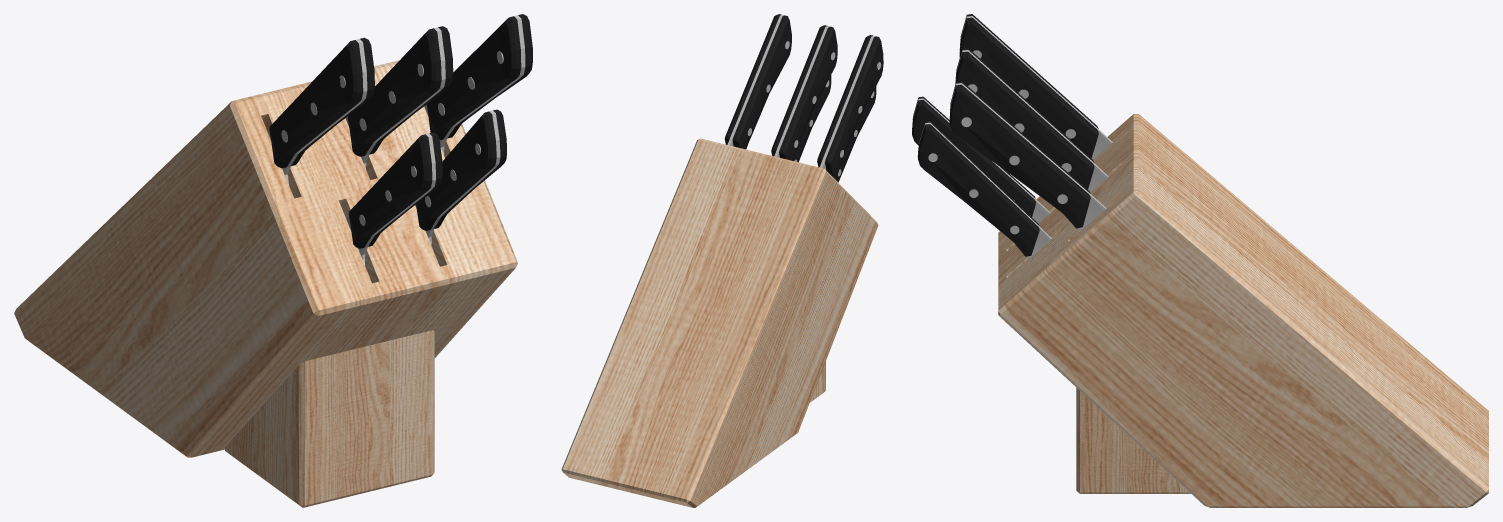
Rendered from sweethome3d-scopia-knife-stand-376.glb.
3 renders of one model, left to right at view 1: azimuth 30°, elevation 25°; view 2: azimuth 150°, elevation 25°; view 3: azimuth 270°, elevation 25°, orthographic. The views are drawn at different scales.
Visible parts, largest first — view 1: Stand_Cube.005, knife2_Cube.001, knife_Cube, knife.001_Cube.002, knife.002_Cube.003, knife.003_Cube.004; view 2: Stand_Cube.005, knife2_Cube.001, knife.001_Cube.002, knife_Cube, knife.003_Cube.004, knife.002_Cube.003; view 3: Stand_Cube.005, knife.001_Cube.002, knife.003_Cube.004, knife2_Cube.001, knife_Cube, knife.002_Cube.003.
Boxes of the visible parts, x1=… form: Stand_Cube.005: x1=14, y1=60, x2=517, y2=507; knife2_Cube.001: x1=268, y1=37, x2=374, y2=184; knife_Cube: x1=347, y1=26, x2=453, y2=168; knife.001_Cube.002: x1=424, y1=14, x2=532, y2=154; knife.002_Cube.003: x1=346, y1=132, x2=442, y2=264; knife.003_Cube.004: x1=415, y1=109, x2=506, y2=244; Stand_Cube.005: x1=561, y1=138, x2=878, y2=507; knife2_Cube.001: x1=817, y1=35, x2=883, y2=179; knife.001_Cube.002: x1=724, y1=14, x2=791, y2=149; knife_Cube: x1=771, y1=25, x2=837, y2=160; knife.003_Cube.004: x1=793, y1=75, x2=831, y2=162; knife.002_Cube.003: x1=836, y1=86, x2=876, y2=182; Stand_Cube.005: x1=998, y1=114, x2=1488, y2=507; knife.001_Cube.002: x1=949, y1=81, x2=1106, y2=231; knife.003_Cube.004: x1=917, y1=121, x2=1051, y2=259; knife2_Cube.001: x1=959, y1=14, x2=1112, y2=159; knife_Cube: x1=955, y1=48, x2=1108, y2=192; knife.002_Cube.003: x1=912, y1=96, x2=1050, y2=223.
Bounding box in the file's own units: 9.04 × 21.91 × 27.14.
11 materials, 6 textured.
